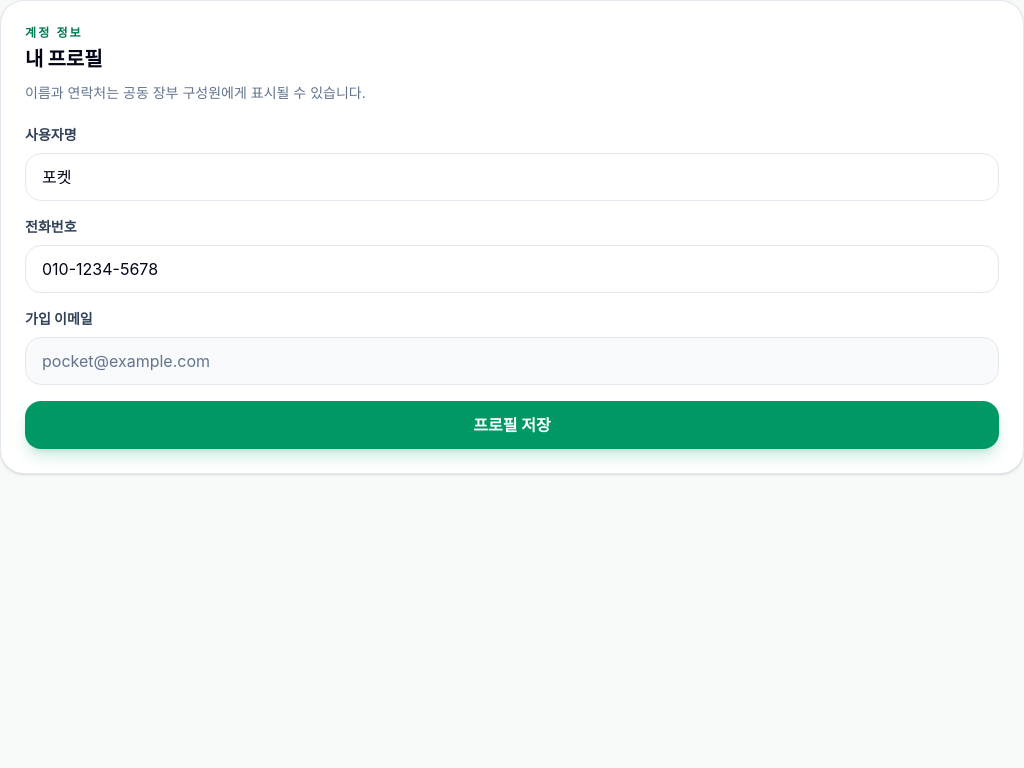
Scenario: profile settings forms › shows field errors returned by the profile save action
What coordinates should you click on to do the following:
click the button "프로필 저장"
I would click on:
 (512, 425)
Its box is [25, 401, 999, 449].
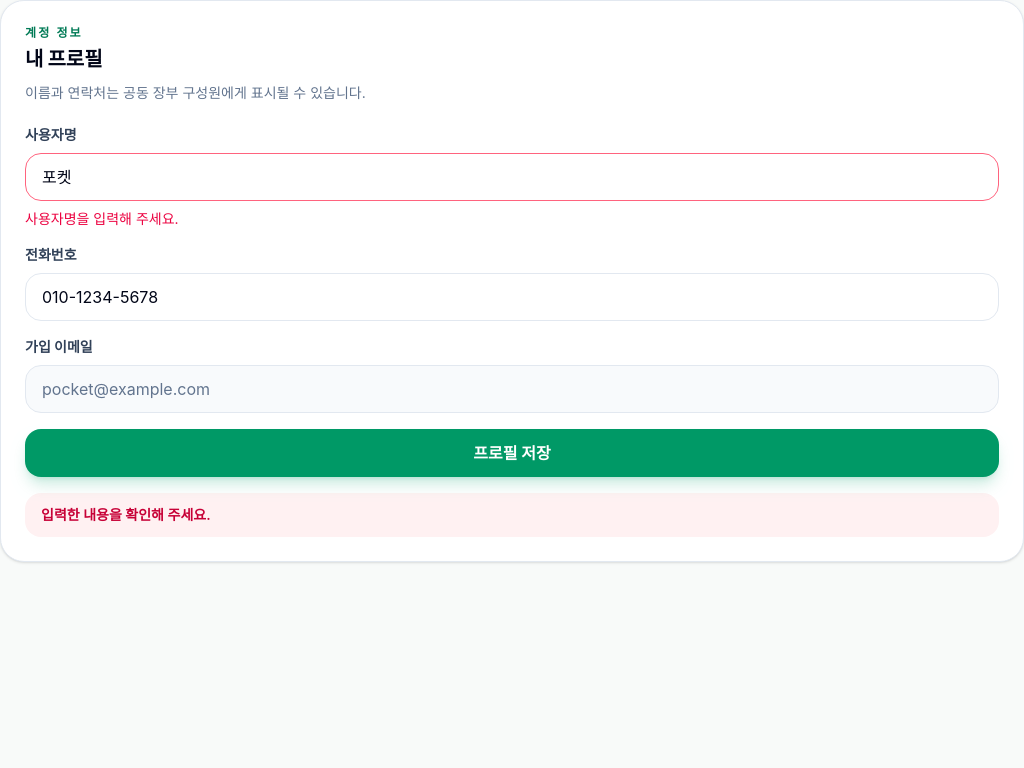
Now the message reads "입력한 내용을 확인해 주세요.", box [41, 506, 211, 523]
Now the list item "사용자명을 입력해 주세요." is shown, box [25, 210, 179, 227]
